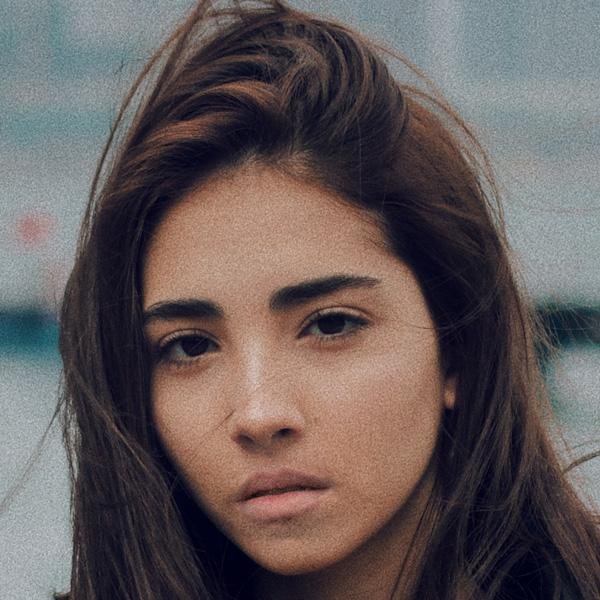Eyes: (288, 297, 382, 349), (152, 321, 229, 375)
